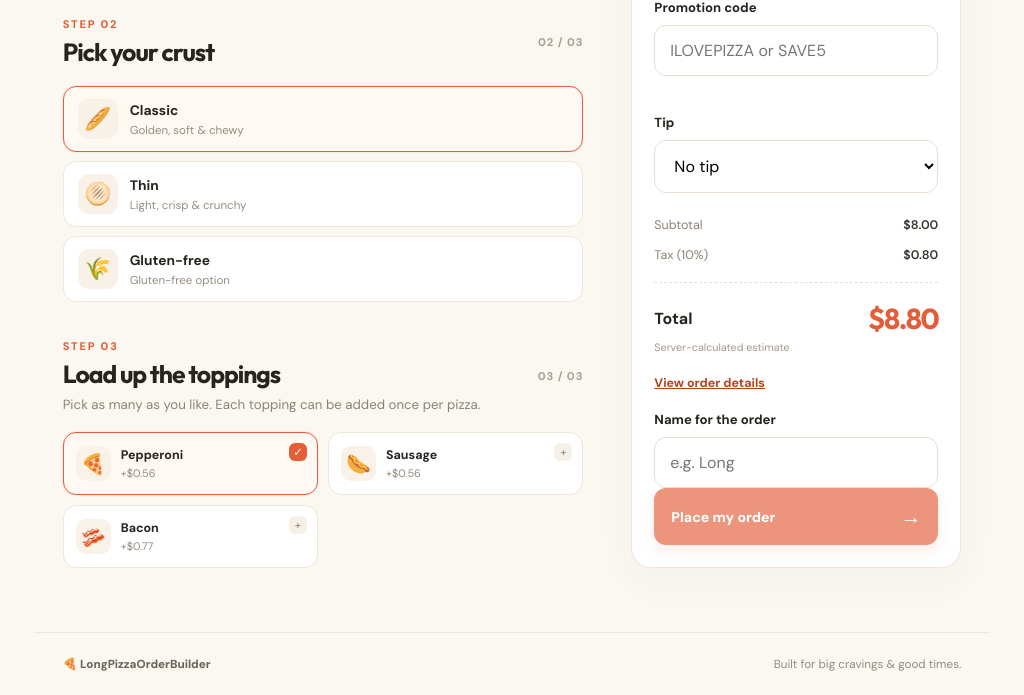
Scenario: UI-016: the status comes from the server, and cancelling tells the truth › shows the status in words and offers cancel while the server allows it
(page scrolled)
Expected: the text with test id "order-total" reads "$8.80", [868,300,938,336]
Type "Sam" into the field labelled "Name for the order" at point(796, 463), box [654,437,938,488]
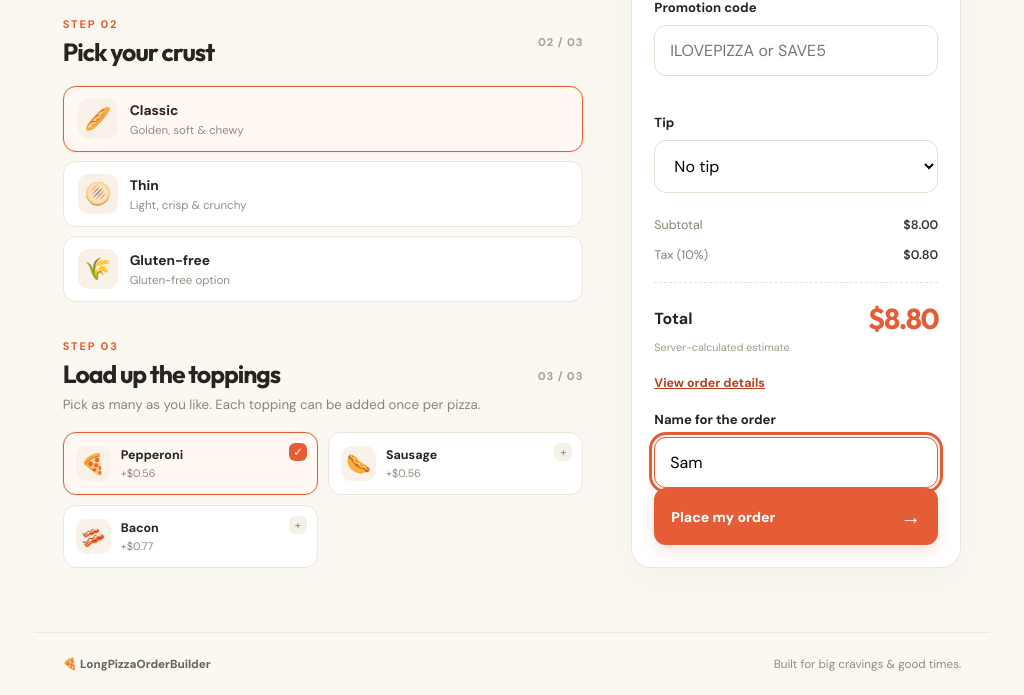
Click the button "Place my order →" at point(723, 517), box [654,488,938,545]
(page scrolled)
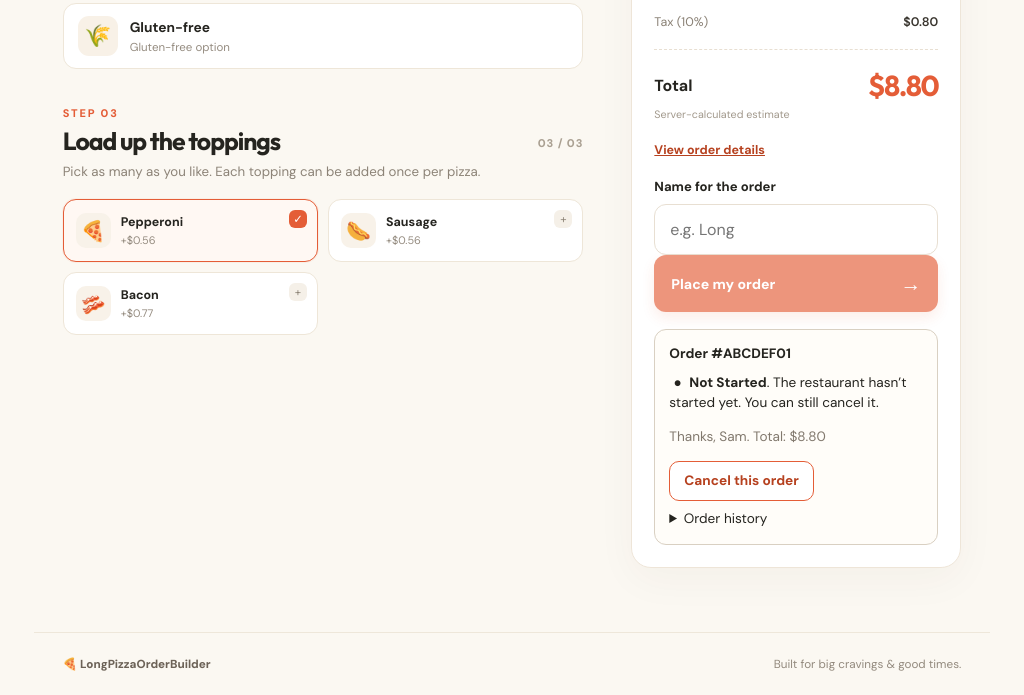
Now the text "Order #ABCDEF01" is shown, box [669,344,791,365]
Now the text "Not Started" is shown, box [689,374,767,391]
Now the text "● Not Started. The restaurant hasn’t started yet. You can still cancel it." is shown, box [669,373,923,414]
